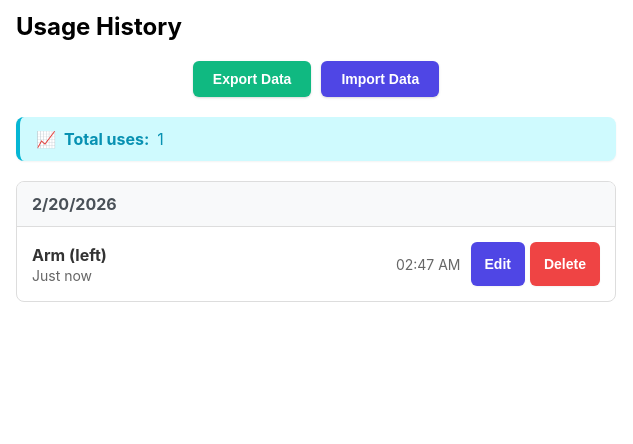
it: UsageHistory - inline editing › cancels editing and restores display
This screenshot has width=633, height=444.
Click the button "Edit" at (498, 264), box x1=470 y1=242 x2=525 y2=286
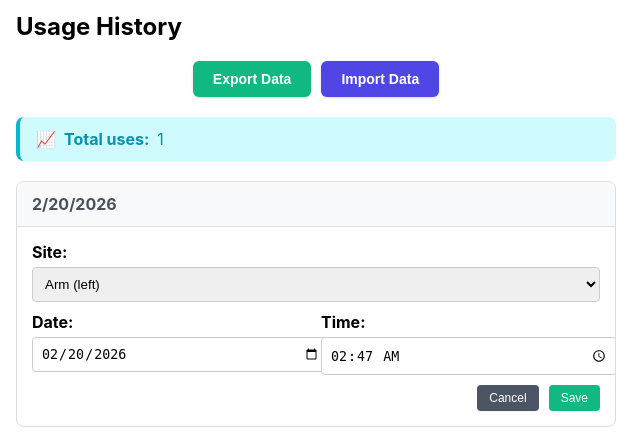
Expected: the button "Cancel" is shown
Click the button "Cancel" at (508, 398), box x1=477 y1=385 x2=539 y2=411
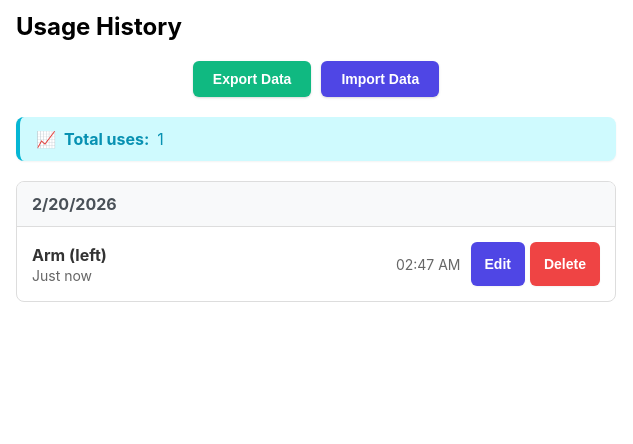
Expected: the button "Cancel" is gone
Expected: the button "Edit" is shown, x1=470 y1=242 x2=525 y2=286
